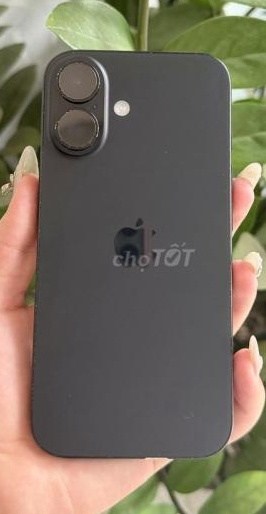scratch: (46, 53, 104, 106), (53, 109, 103, 156)
